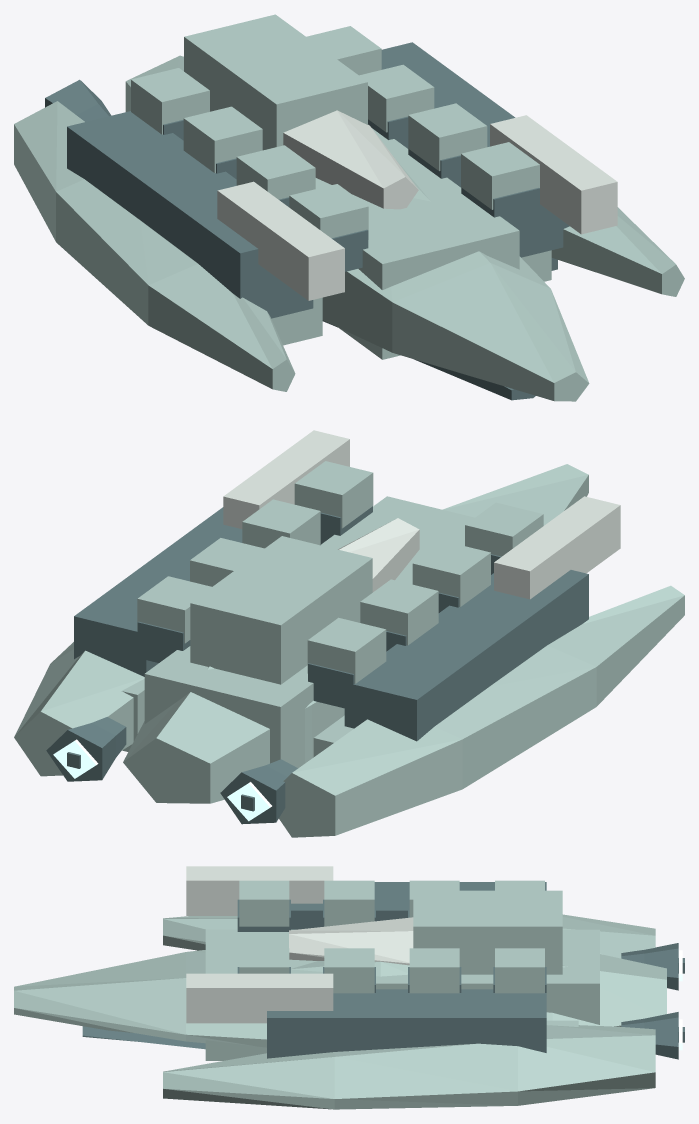
3 views of the same model, one above another, from view 1: azimuth 30°, elevation 25°; view 2: azimuth 150°, elevation 25°; view 3: azimuth 270°, elevation 25° (orthographic). The views are drawn at different scales.
Bounding box in the file's own units: 15.95 × 5.98 × 25.2.
